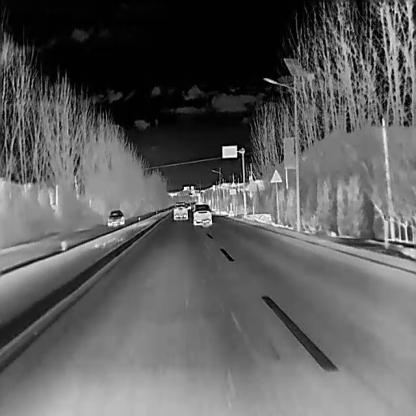car: (193, 203, 211, 226), (107, 209, 124, 226), (173, 202, 188, 220)
